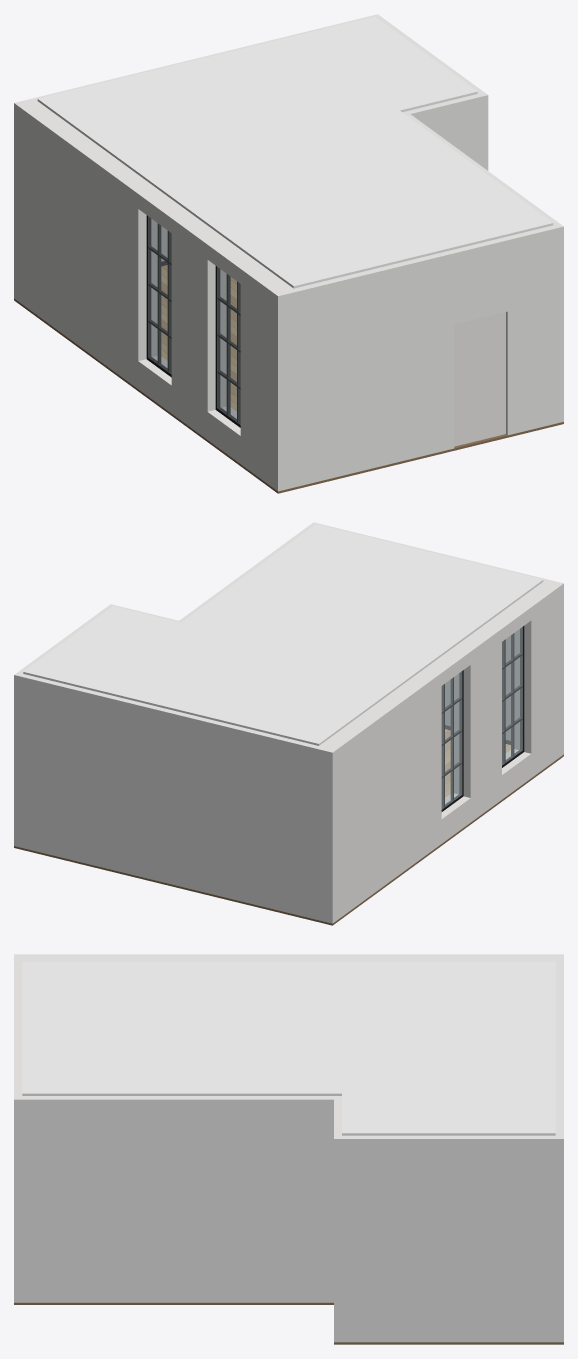
The picture shows the model from 3 angles, top to bottom: view 1: azimuth 30°, elevation 25°; view 2: azimuth 150°, elevation 25°; view 3: azimuth 270°, elevation 25°; orthographic projection. The views are drawn at different scales.
Visible parts, largest first — view 1: Ceiling, Wall_W, Wall_S, Door, Window_Near_Glass, Window_Far_Glass, Wall_Return, Floor, Window_Far, Window_Near, Wall_Jog, Wall_N; view 2: Ceiling, Wall_N, Wall_W, Window_Far_Glass, Window_Near_Glass, Window_Far, Window_Near, Floor, Wall_E, Wall_S, Wall_Jog; view 3: Ceiling, Wall_Jog, Wall_E, Wall_W, Wall_Return, Floor, Wall_N, Wall_S.
Part boxes in pixels (x1,y1,x2,y2): Ceiling: [37, 16, 553, 288]; Wall_W: [14, 98, 297, 491]; Wall_S: [294, 225, 557, 486]; Door: [454, 312, 505, 446]; Window_Near_Glass: [217, 267, 240, 424]; Window_Far_Glass: [148, 216, 171, 374]; Wall_Return: [406, 92, 488, 170]; Floor: [14, 265, 563, 493]; Window_Far: [146, 215, 171, 377]; Window_Near: [215, 266, 240, 427]; Wall_Jog: [403, 111, 563, 423]; Wall_N: [33, 16, 372, 261]; Ceiling: [23, 524, 543, 745]; Wall_N: [19, 674, 318, 919]; Wall_W: [315, 579, 563, 923]; Window_Far_Glass: [441, 671, 462, 809]; Window_Near_Glass: [502, 627, 522, 765]; Window_Far: [441, 670, 463, 811]; Window_Near: [502, 626, 524, 767]; Floor: [14, 729, 563, 925]; Wall_E: [14, 606, 110, 847]; Wall_S: [318, 523, 546, 740]; Wall_Jog: [178, 522, 318, 622]; Ceiling: [22, 961, 555, 1135]; Wall_Jog: [14, 1096, 341, 1302]; Wall_E: [342, 1135, 563, 1342]; Wall_W: [14, 954, 563, 964]; Wall_Return: [334, 1099, 342, 1342]; Floor: [14, 1302, 563, 1344]; Wall_N: [555, 964, 563, 1135]; Wall_S: [14, 964, 22, 1095].
Size of the model in its own units: 6.25 by 3.28 by 7.86.
